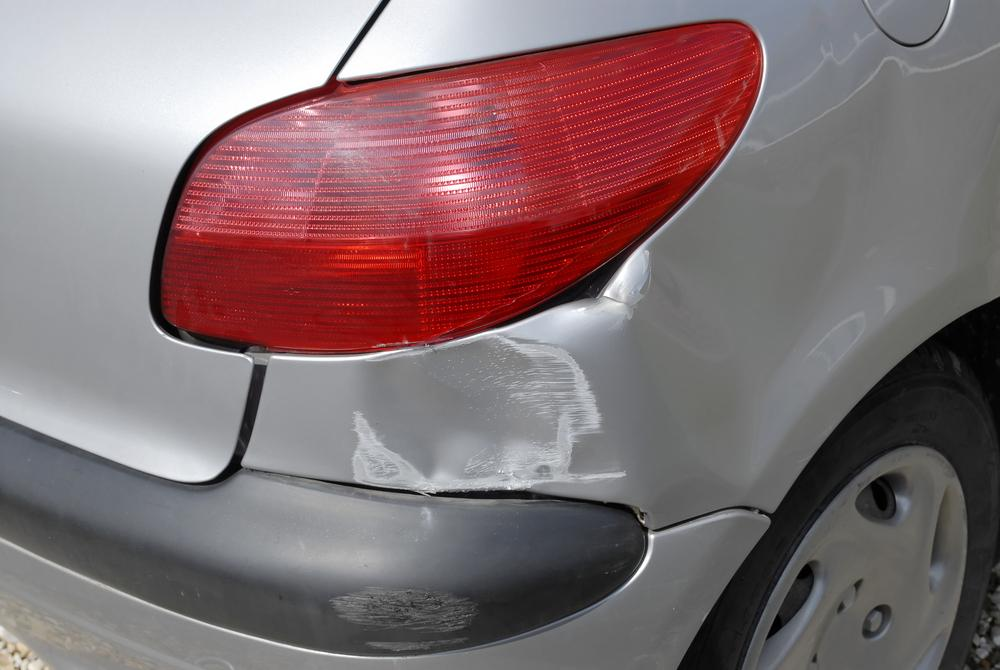dent: (635, 51, 943, 480), (359, 334, 632, 497)
scratch: (313, 579, 484, 653), (348, 409, 433, 499)
